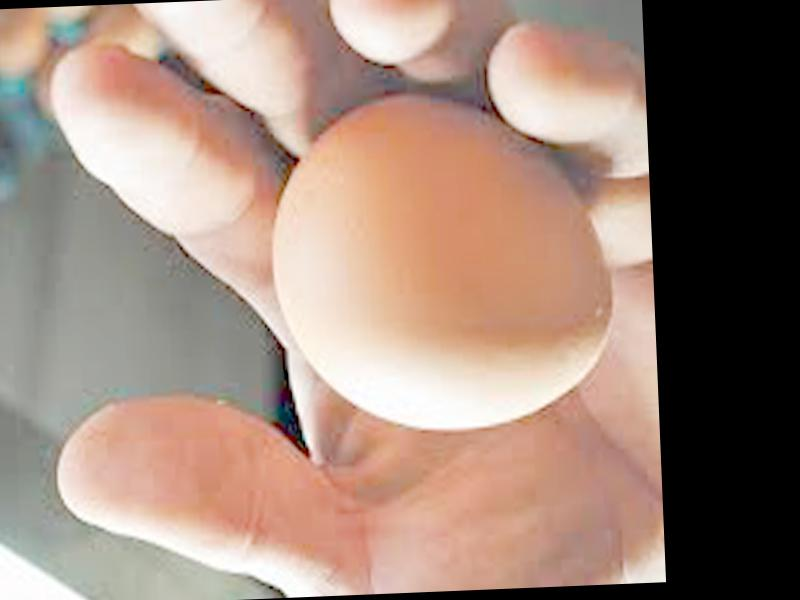Eggs: (264, 81, 623, 434)
